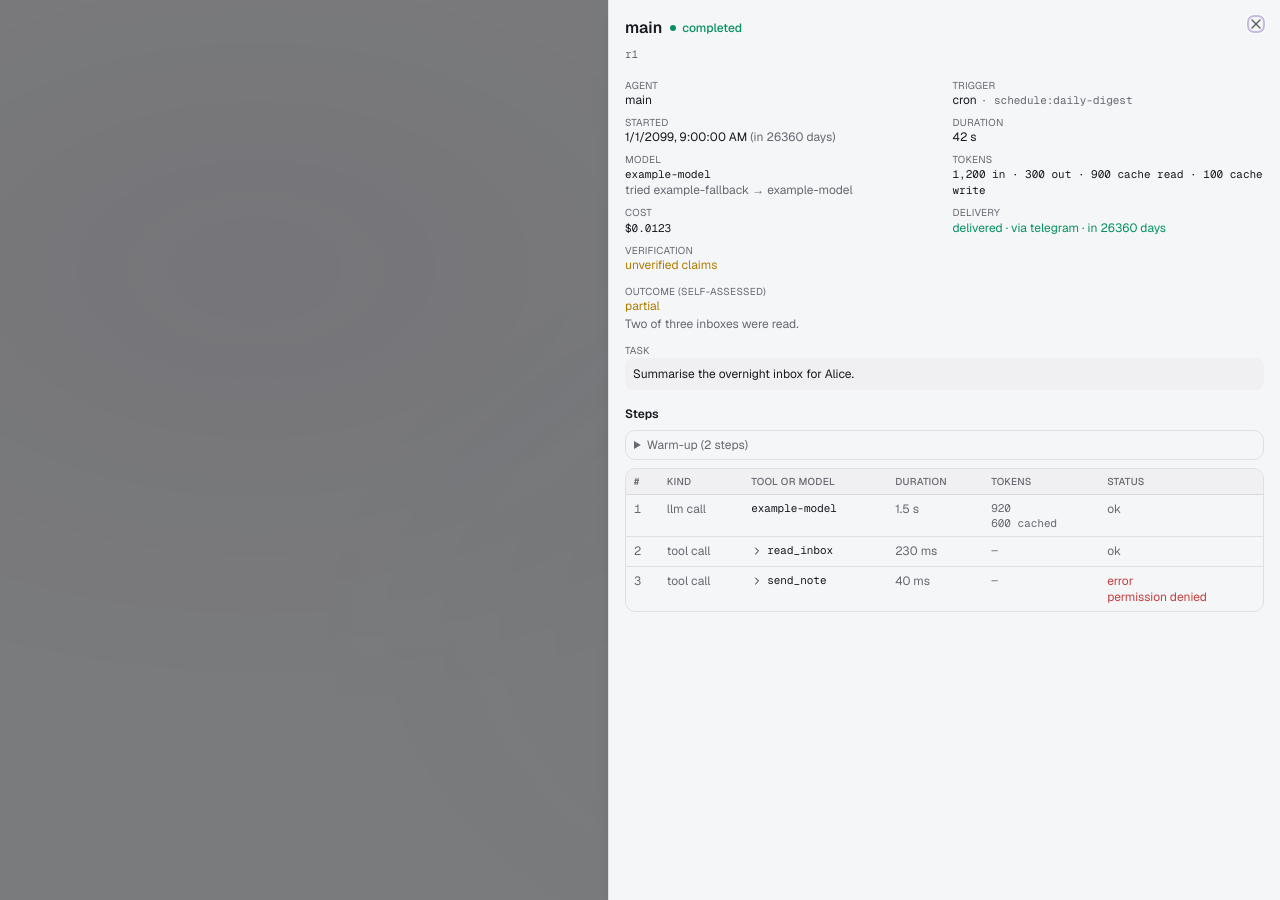
Scenario: RunDetailDrawer › does not claim truncation for a short output
Click the button with test id "step-io-toggle-4". click: x=789, y=581
box: [751,573,827,588]
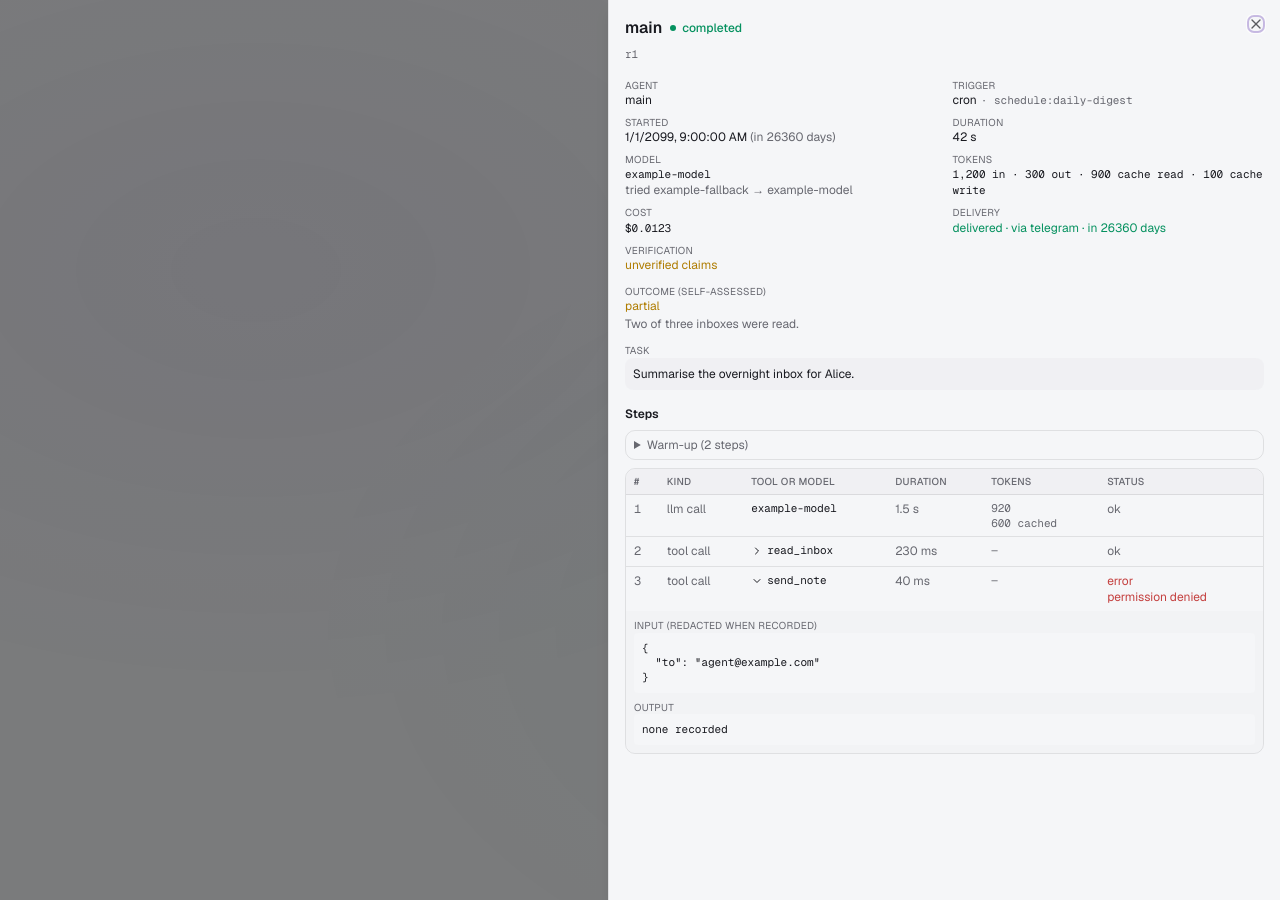
Expected: the text "{ \"to\": \"agent@example.com\" }" is shown, [634,633,1255,693]
